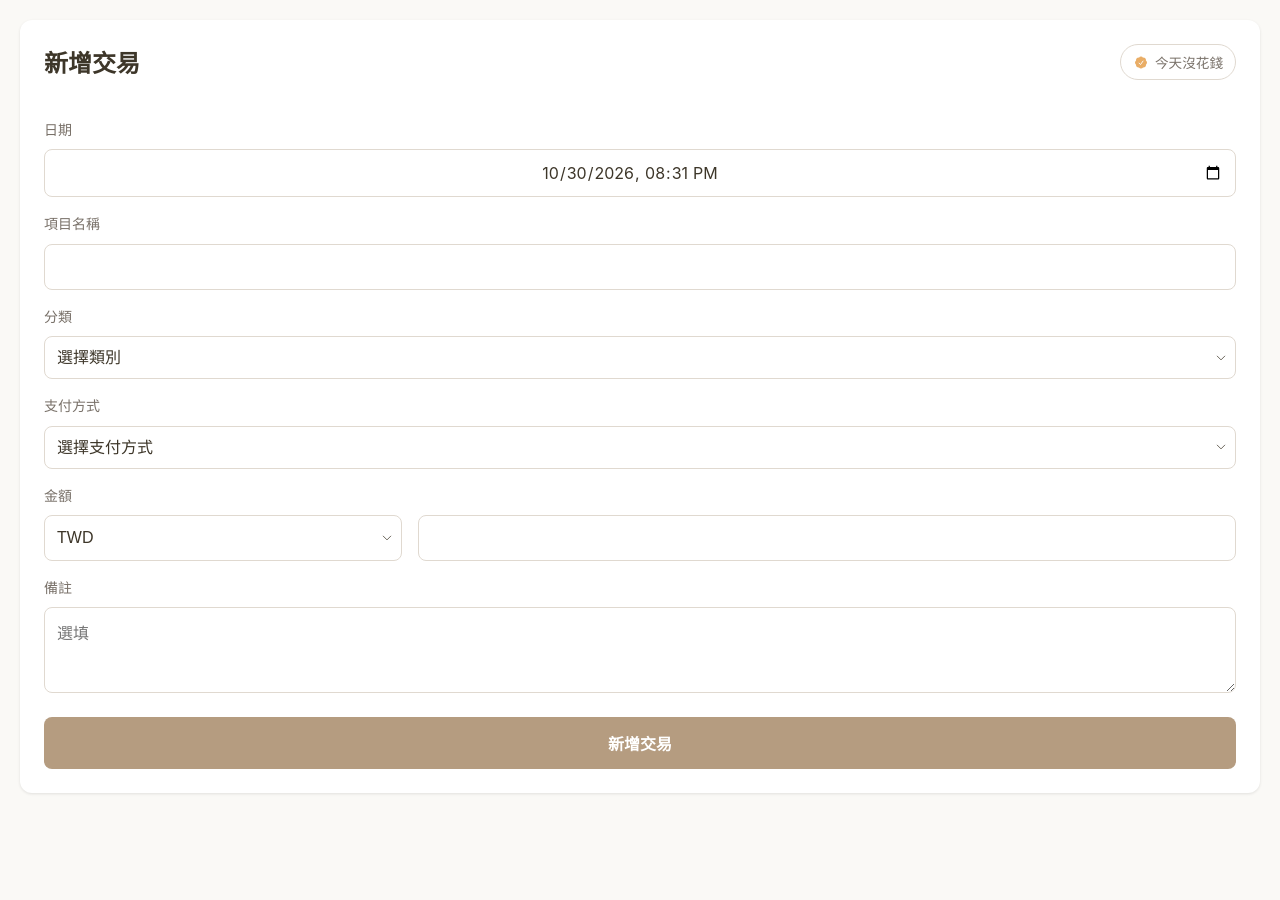
新增交易 › 先選 GBP 再選卡，也會自動勾
Select "GBP" in the dropdown with id "currency" at (223, 538), box [44,515,402,561]
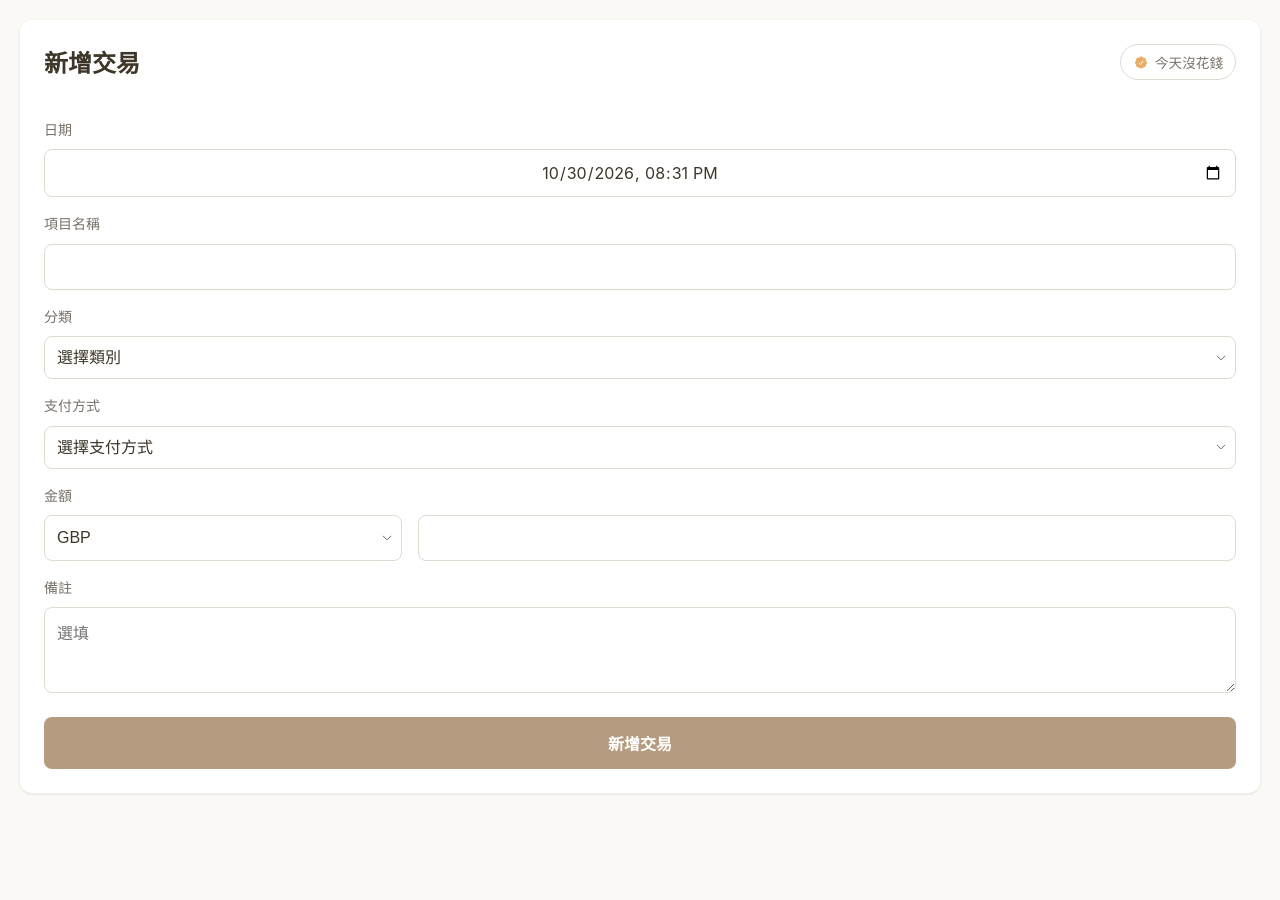
Select "英國卡" in the dropdown with id "method" at (640, 447), box [44,426,1236,468]
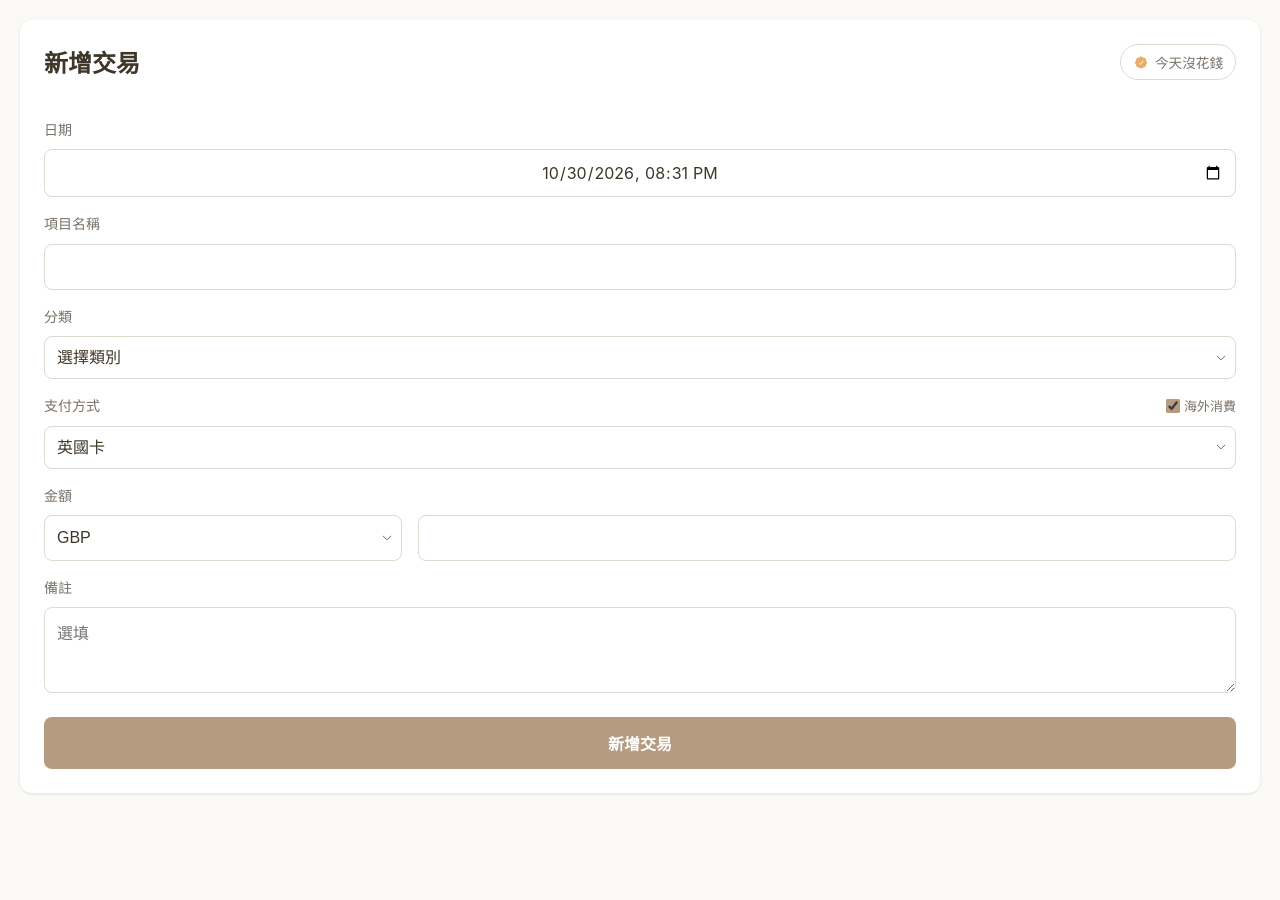
Check: the checkbox with id "overseas" is checked, box [1166,399,1180,413]
